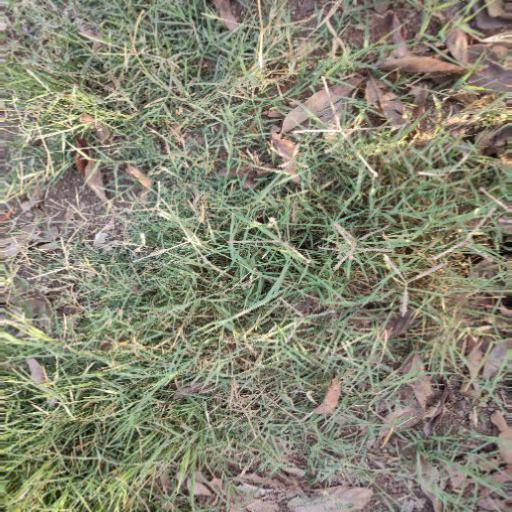weed: (38, 30, 483, 471)
